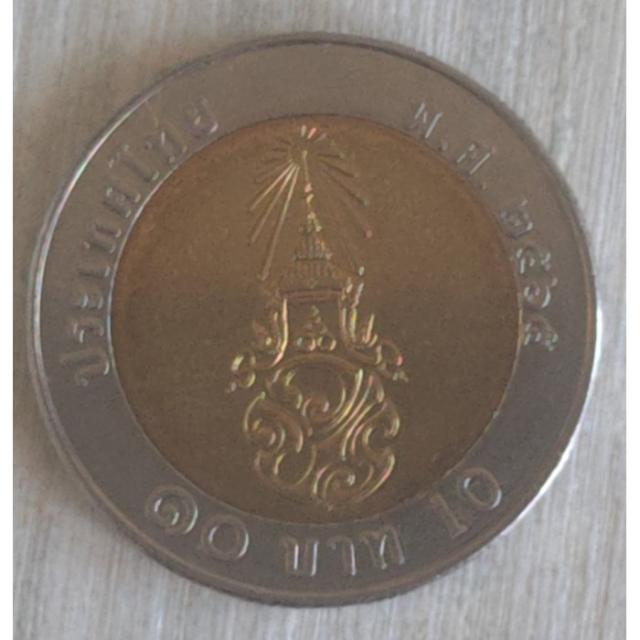10 Bath: (22, 30, 609, 613)
